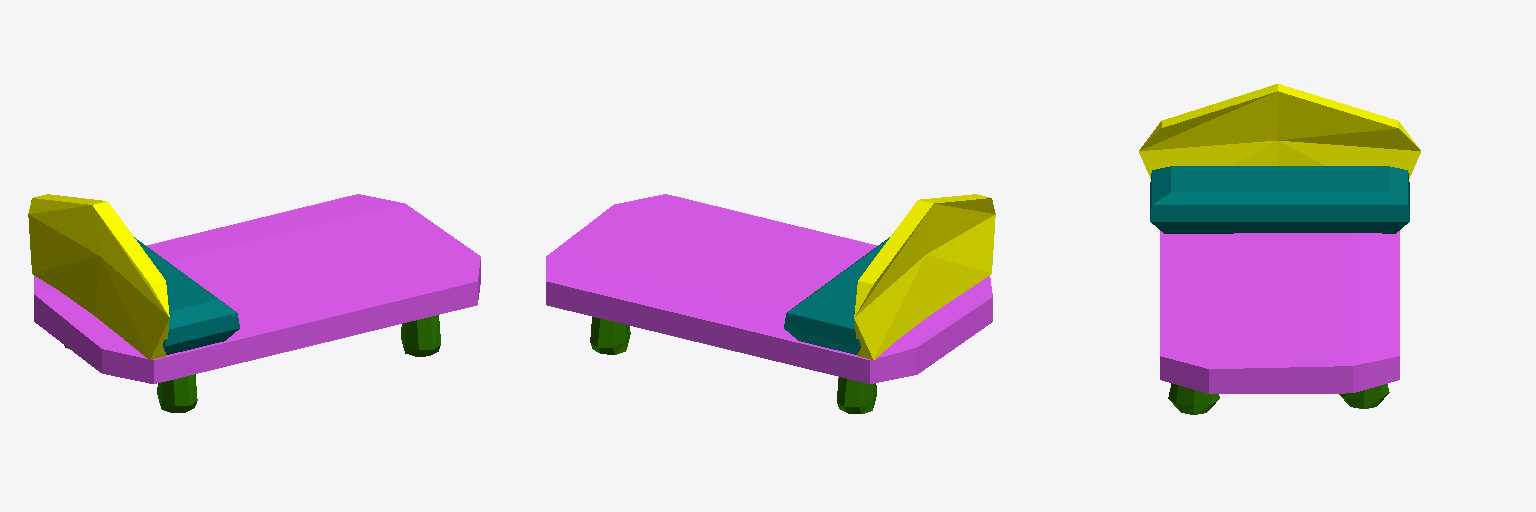
Rendered from bedtext.obj.
3 renders of one model, left to right at view 1: azimuth 30°, elevation 25°; view 2: azimuth 150°, elevation 25°; view 3: azimuth 270°, elevation 25°, orthographic.
Visible parts, largest first — view 1: pCube1, pCube2, pCube3, pCylinder4, pCylinder2; view 2: pCube1, pCube2, pCube3, pCylinder1, pCylinder3; view 3: pCube1, pCube3, pCube2, pCylinder4, pCylinder1.
Part boxes in pixels (x1,y1,x2,y2): pCube1: (34, 194, 480, 383); pCube2: (28, 194, 169, 359); pCube3: (134, 237, 239, 354); pCylinder4: (401, 315, 440, 356); pCylinder2: (157, 374, 197, 412); pCube1: (546, 194, 992, 383); pCube2: (854, 194, 995, 359); pCube3: (784, 237, 889, 354); pCylinder1: (590, 317, 630, 354); pCylinder3: (837, 377, 876, 413); pCube1: (1160, 231, 1399, 393); pCube3: (1150, 166, 1409, 233); pCube2: (1139, 84, 1420, 178); pCylinder4: (1168, 383, 1219, 414); pCylinder1: (1339, 384, 1389, 408).
Bounding box in the file's own units: 24.13 × 11.18 × 15.59.